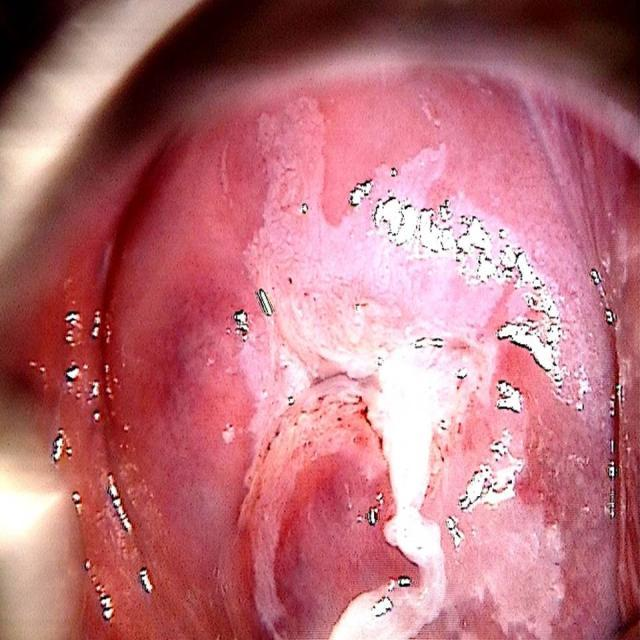cervical_lesion: (5, 57, 629, 640)
